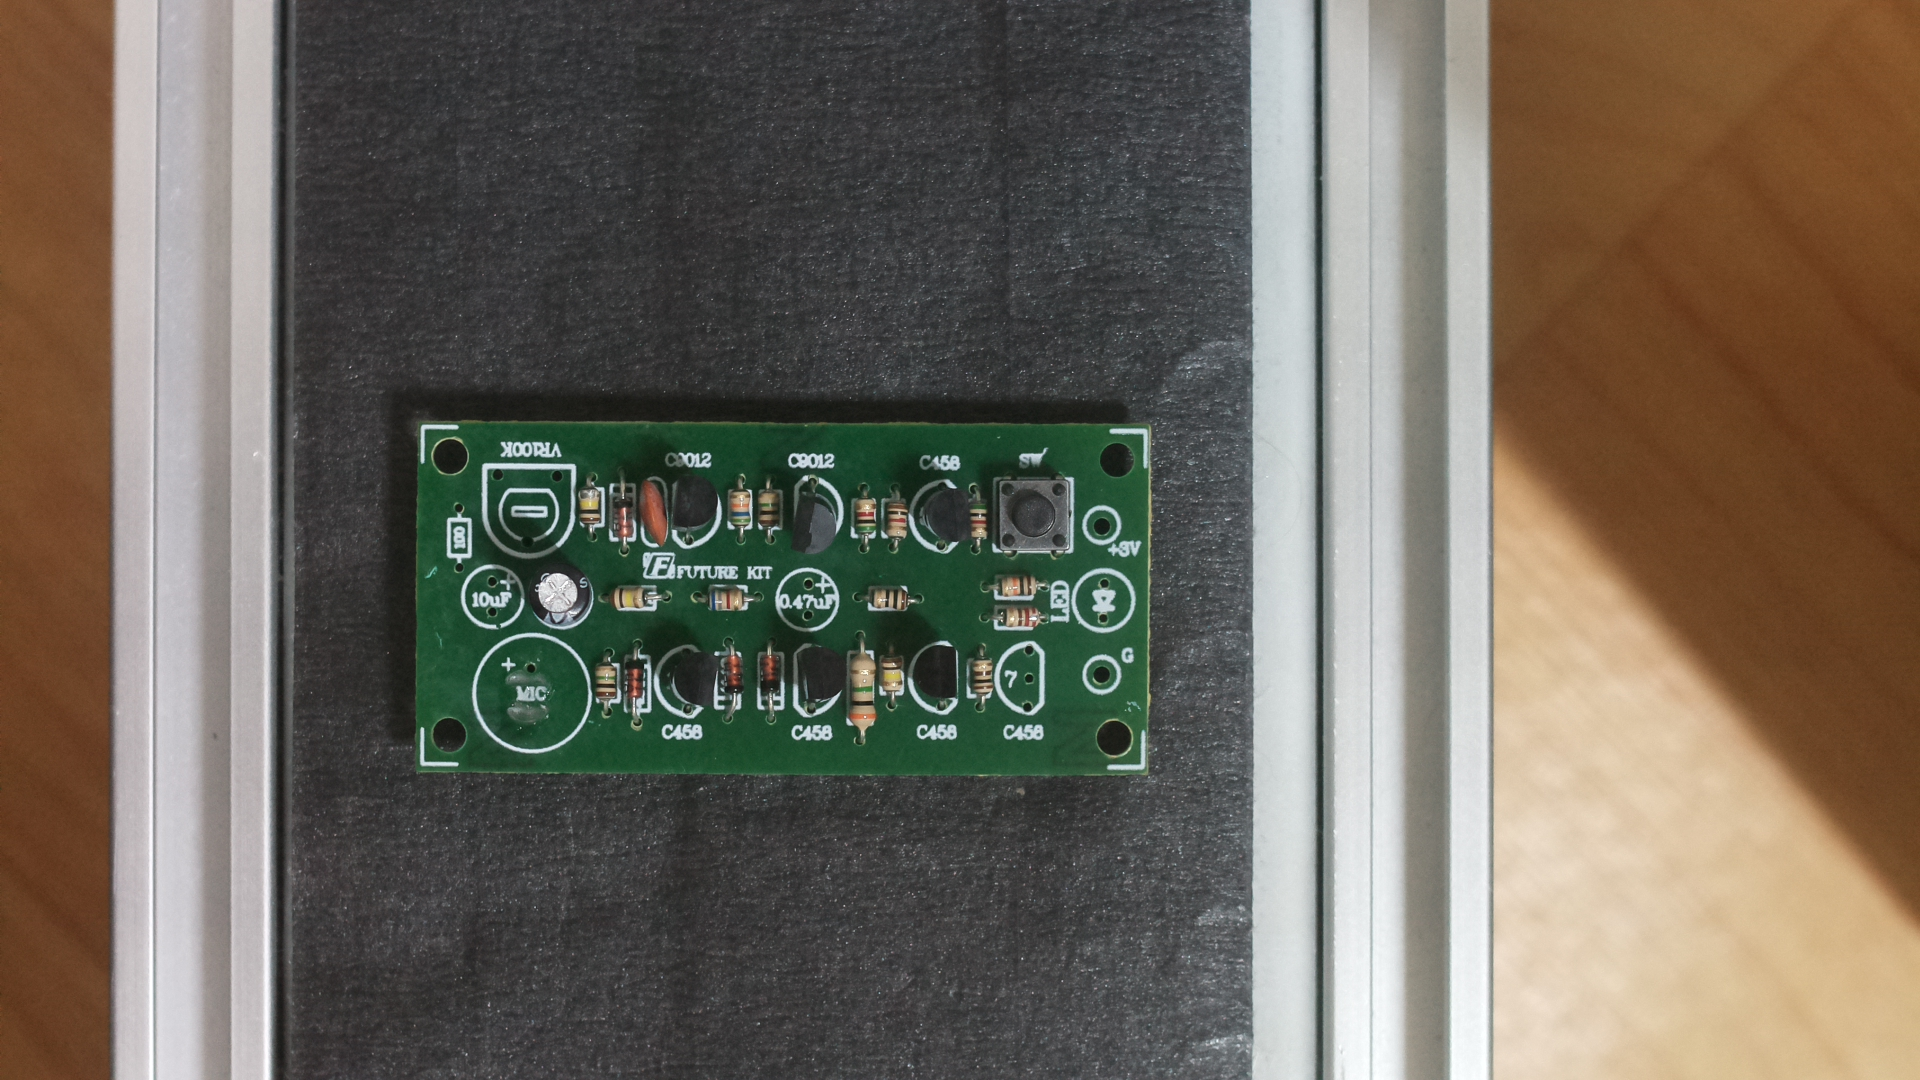A_Missing_part: (397, 407, 1171, 807)
